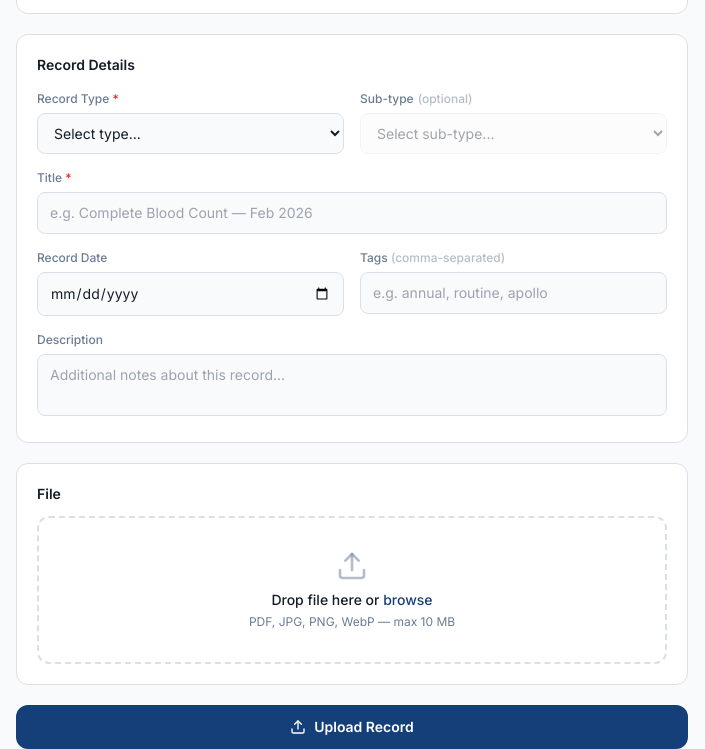
Test: UploadRecordPage — Validation › shows validation errors when submitting empty form
(page scrolled)
Click the button "Upload Record".
click(352, 727)  # box 16,705 -> 688,748
(page scrolled)
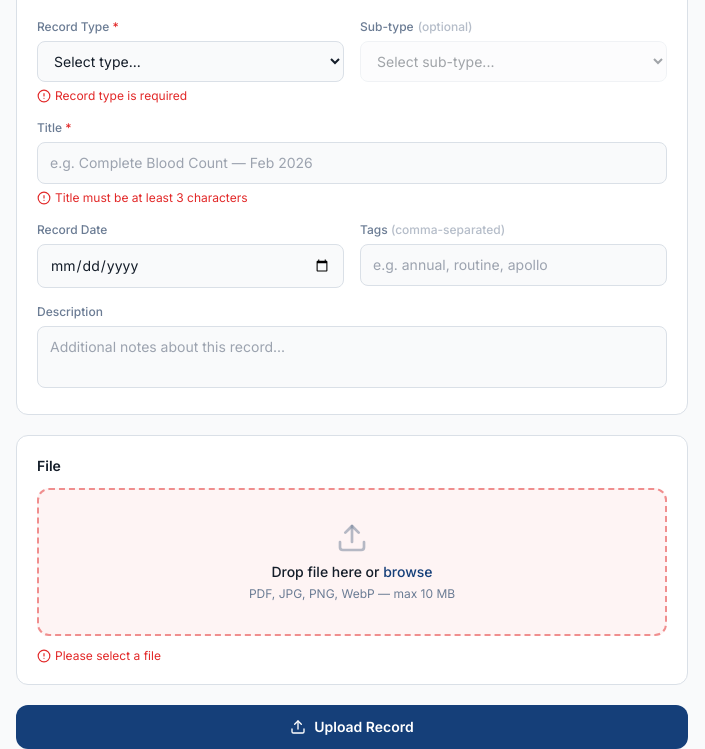
Check: the text "Record type is required" is shown, box 37,88 -> 187,103
Check: the text "Title must be at least 3 characters" is shown, box 37,190 -> 248,205
Check: the text "Please select a file" is shown, box 37,648 -> 161,663
